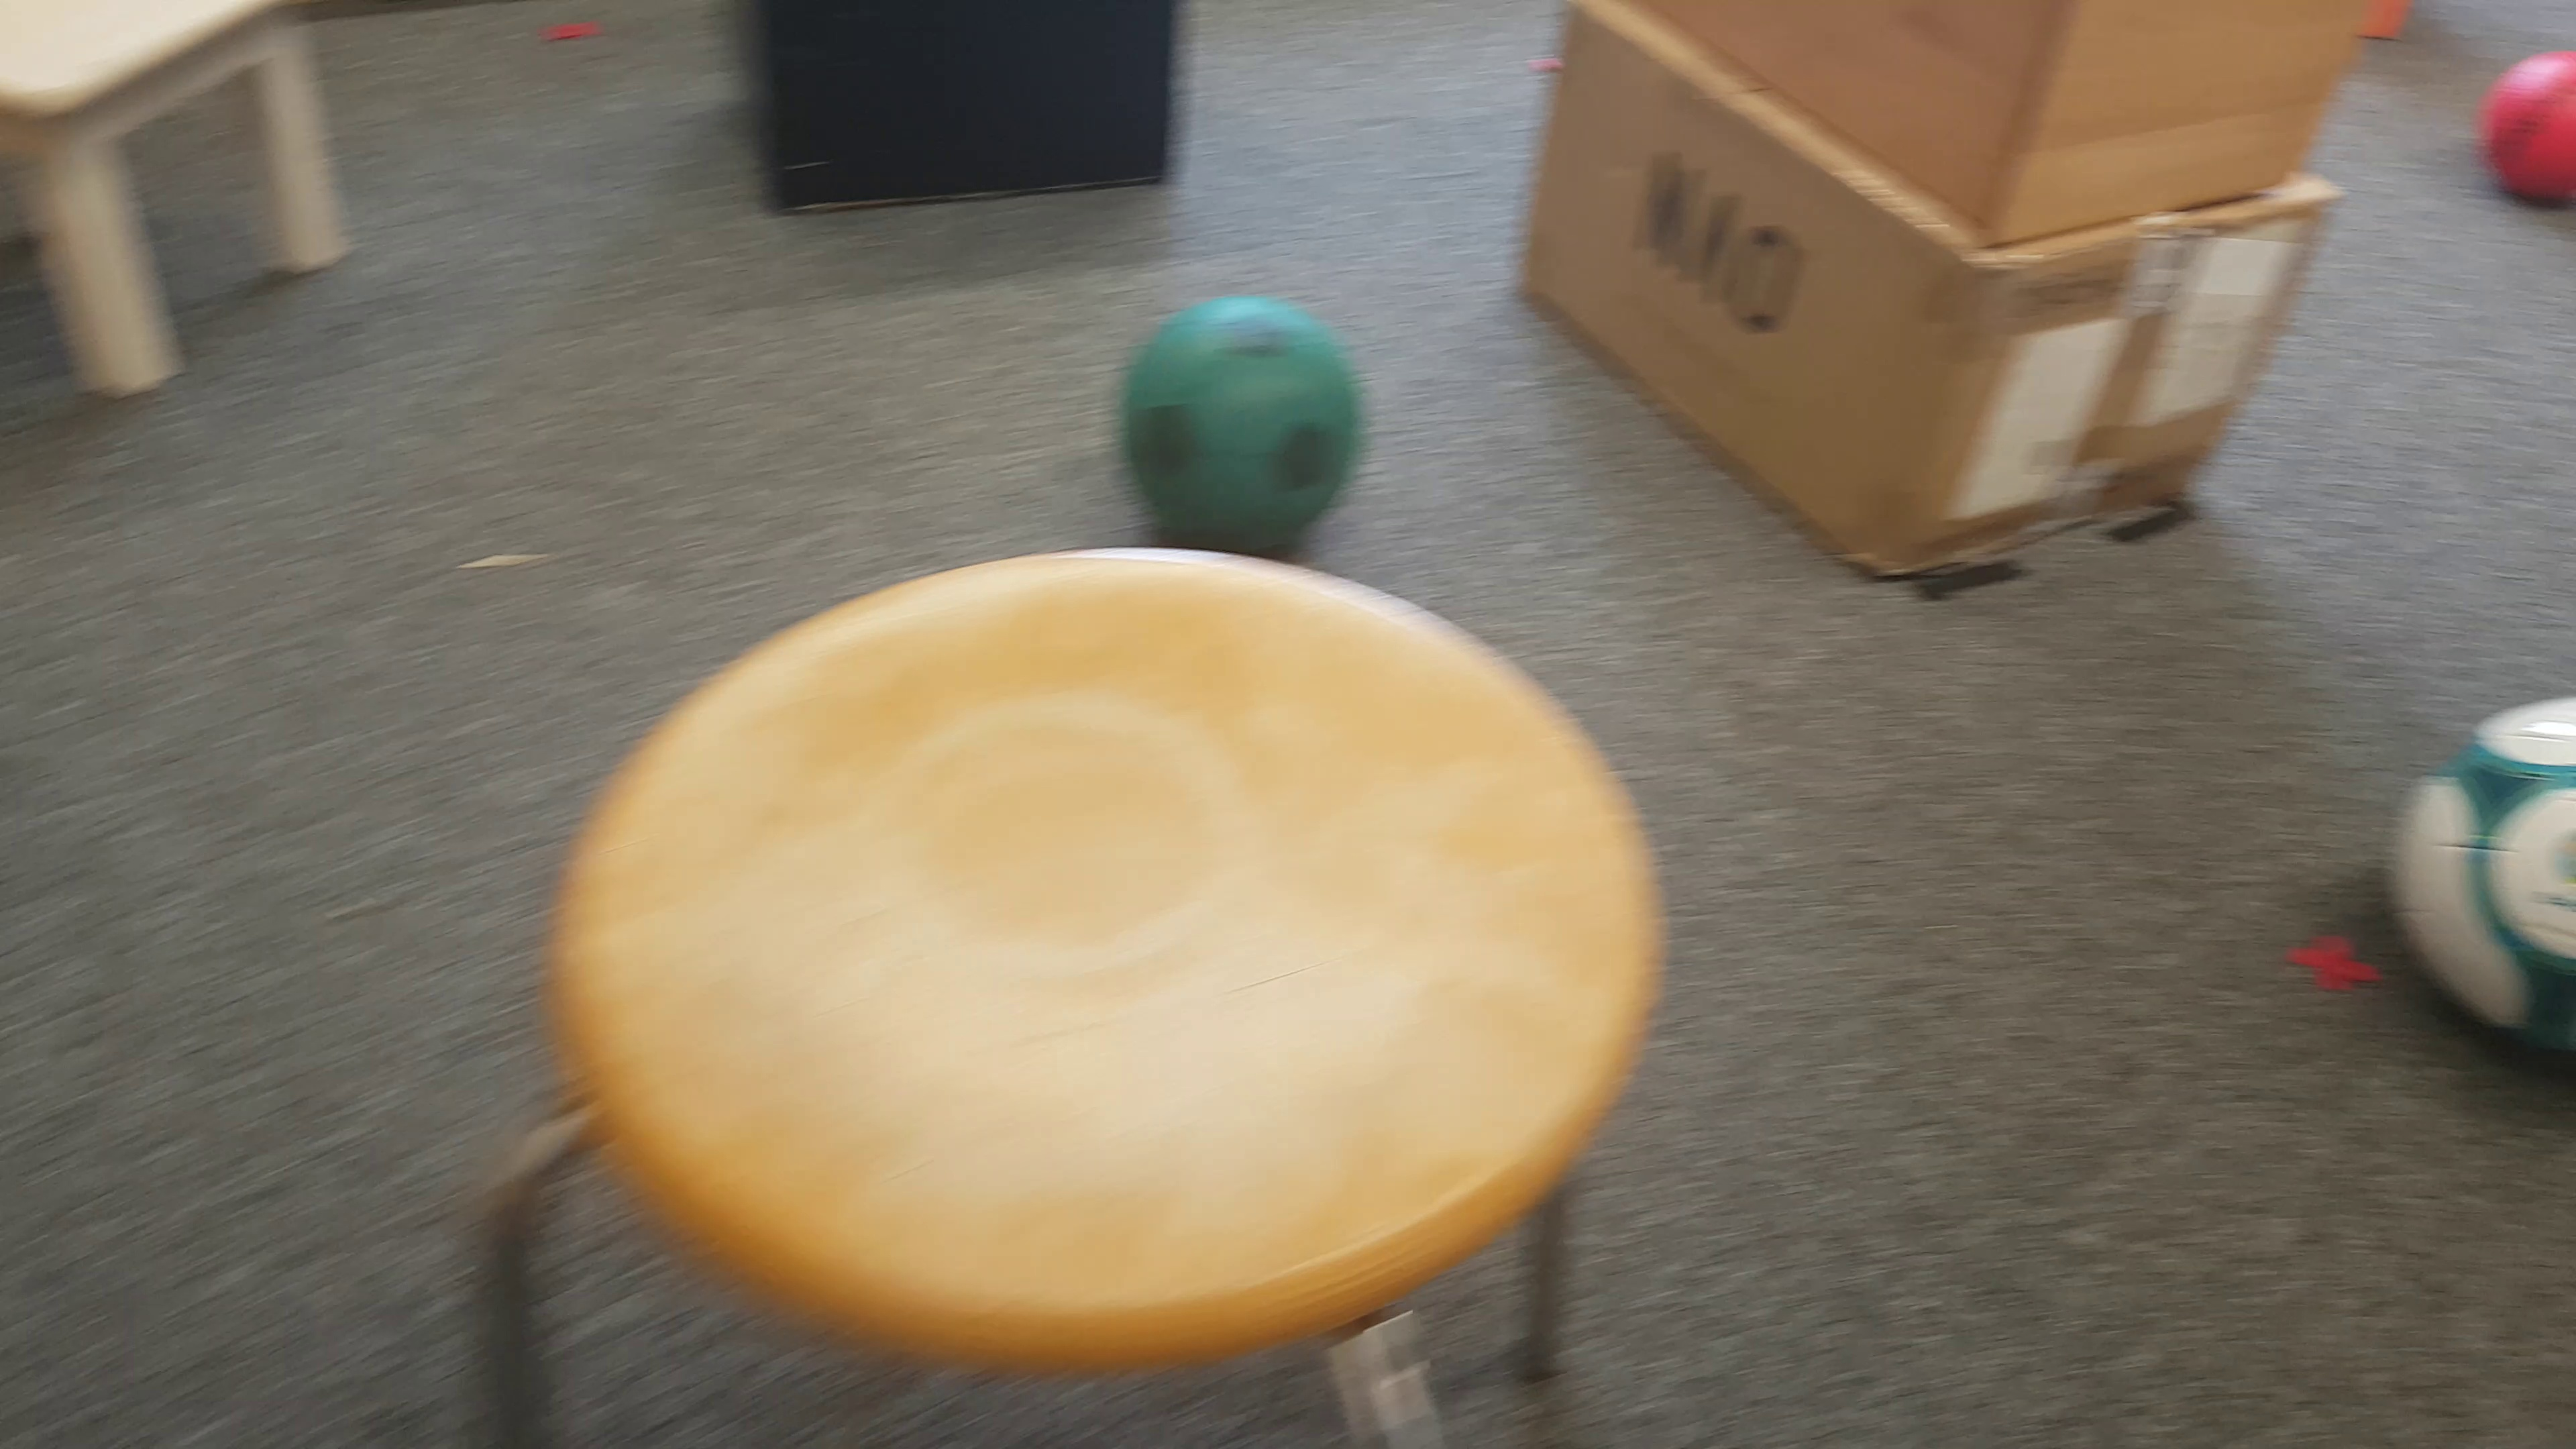kick: (2388, 695, 2576, 1037), (1120, 299, 1369, 550), (2489, 44, 2576, 193)
push: (732, 4, 1185, 209)
